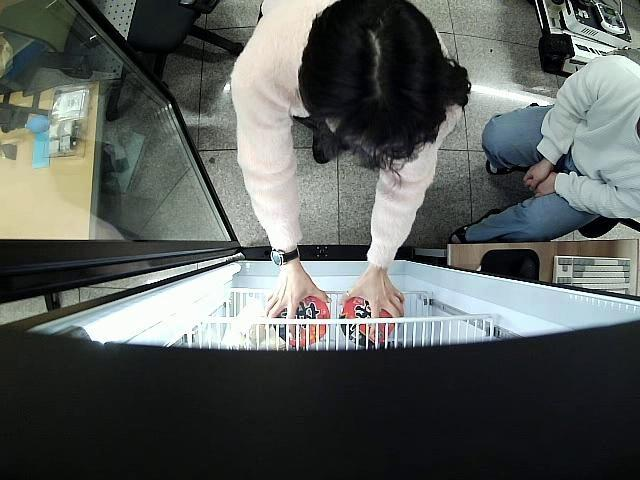01_ShinRamen_L: (270, 286, 330, 346), (342, 292, 396, 345)
